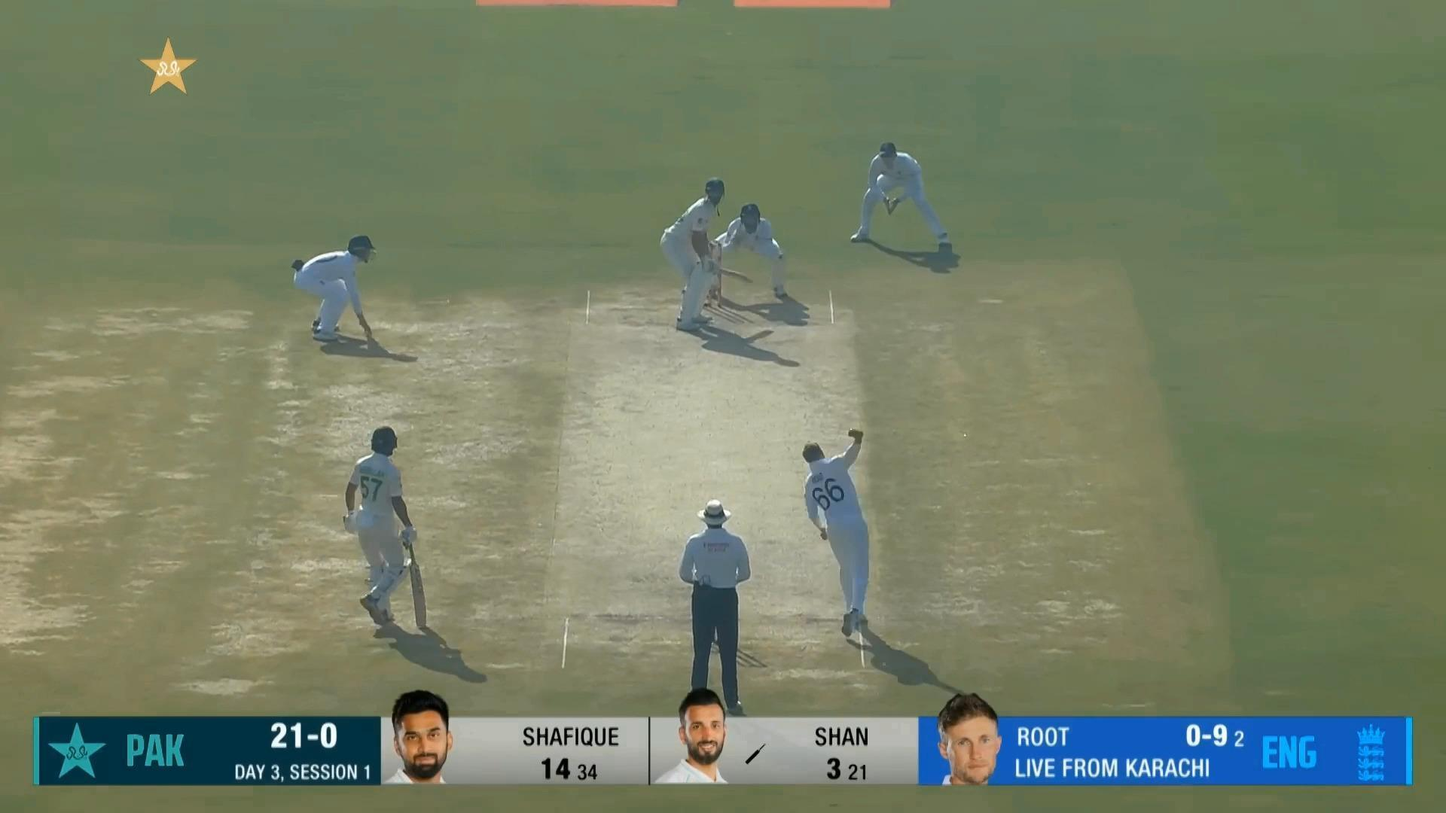BM 1: (659, 178, 755, 333)
BO: (803, 429, 871, 637)
